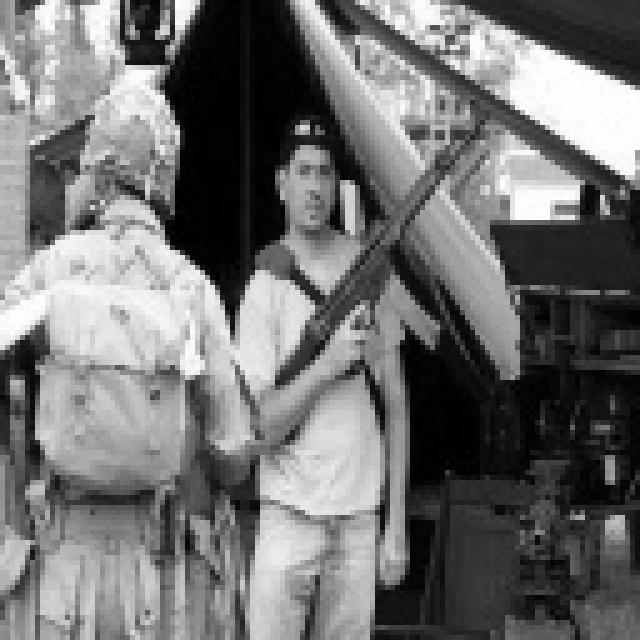Rifle: (250, 99, 496, 438)
